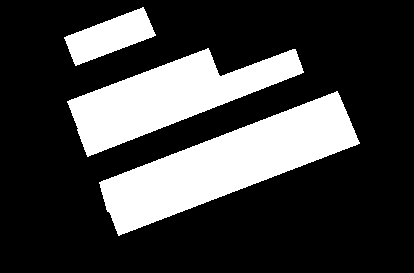parkingspot: (99, 91, 349, 211), (108, 117, 359, 235), (77, 49, 303, 156), (67, 48, 219, 129), (64, 7, 155, 65)
